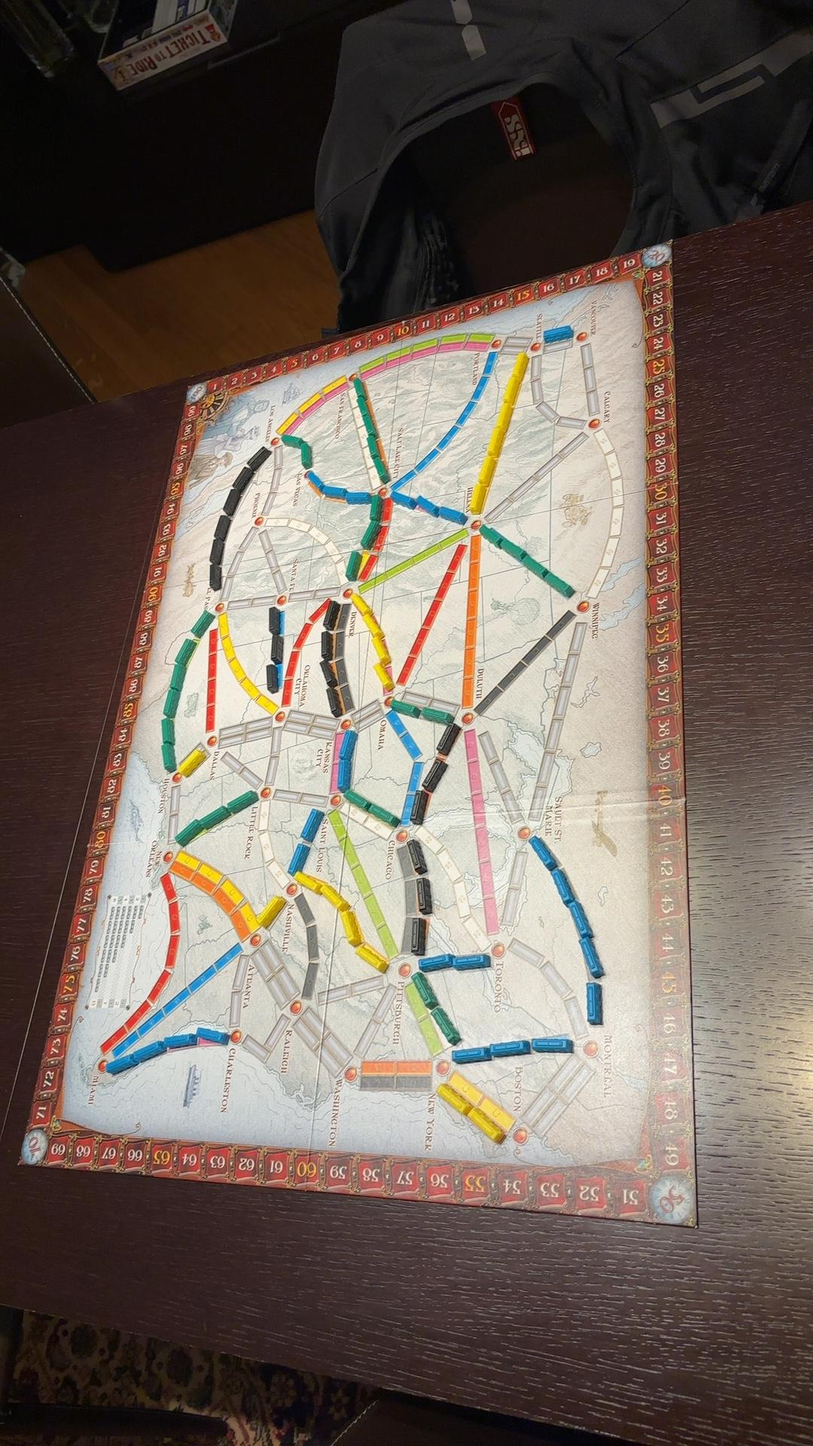black_train: (438, 723, 461, 757), (424, 761, 447, 792), (407, 839, 427, 874), (411, 917, 428, 956), (411, 789, 429, 824), (224, 484, 241, 517), (246, 447, 269, 471), (328, 685, 345, 717), (417, 877, 431, 914), (324, 601, 340, 630), (321, 631, 335, 659), (321, 660, 336, 685), (266, 663, 279, 691), (215, 515, 230, 539), (269, 606, 282, 633), (210, 541, 223, 566), (209, 563, 221, 590), (271, 636, 283, 663), (323, 634, 327, 642)
blue_train: (580, 936, 604, 978), (530, 835, 558, 871), (551, 867, 574, 905), (569, 901, 592, 937), (489, 1040, 531, 1058), (302, 810, 323, 843), (133, 1041, 166, 1062), (531, 1036, 573, 1052), (452, 1046, 491, 1063), (160, 1032, 197, 1049), (289, 844, 309, 874), (419, 954, 452, 972), (453, 953, 490, 969), (587, 983, 601, 1024), (543, 325, 573, 344), (196, 1027, 229, 1043), (106, 1055, 134, 1073), (340, 731, 357, 759), (388, 493, 416, 509), (338, 761, 351, 792), (343, 490, 370, 503)
green_train: (432, 1005, 461, 1044), (413, 975, 438, 1009), (226, 790, 257, 815), (199, 806, 229, 831), (175, 819, 202, 846), (192, 612, 214, 638), (419, 708, 453, 724), (391, 698, 420, 715), (176, 640, 196, 664), (164, 688, 179, 718), (162, 743, 175, 772), (171, 663, 186, 688), (162, 717, 173, 744)
yellow_train: (469, 1107, 504, 1142), (356, 942, 388, 972), (257, 895, 286, 927), (438, 1084, 470, 1113), (340, 908, 363, 947), (324, 883, 349, 908), (373, 634, 391, 664), (375, 664, 394, 690)
